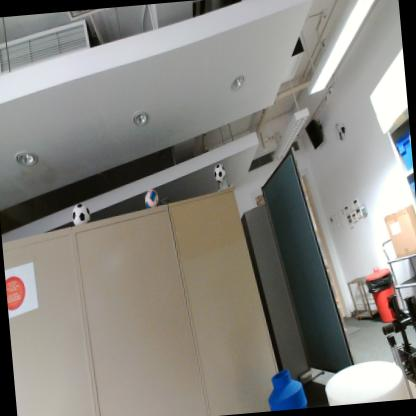ball: (71, 202, 91, 223), (144, 188, 160, 209), (214, 163, 227, 185)
